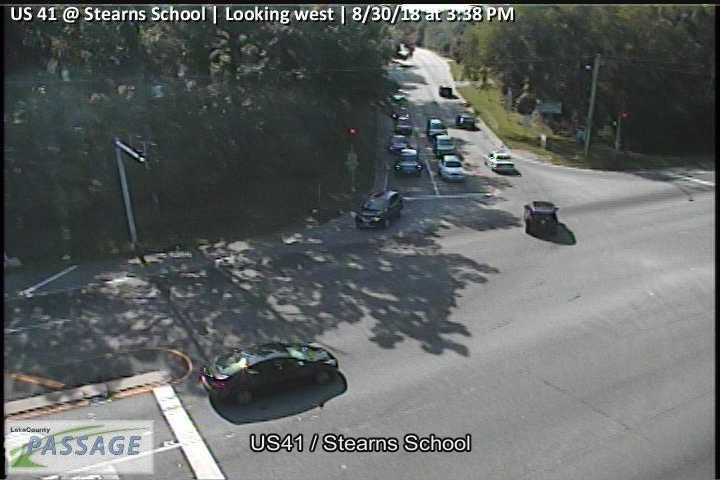SUV: (355, 189, 405, 231), (524, 200, 560, 240), (437, 153, 466, 183), (392, 149, 424, 176), (432, 134, 455, 154), (456, 112, 478, 132), (428, 117, 446, 139), (438, 84, 452, 97)
Sedan: (199, 339, 340, 412), (483, 150, 515, 176), (394, 108, 413, 133), (389, 133, 407, 155)
